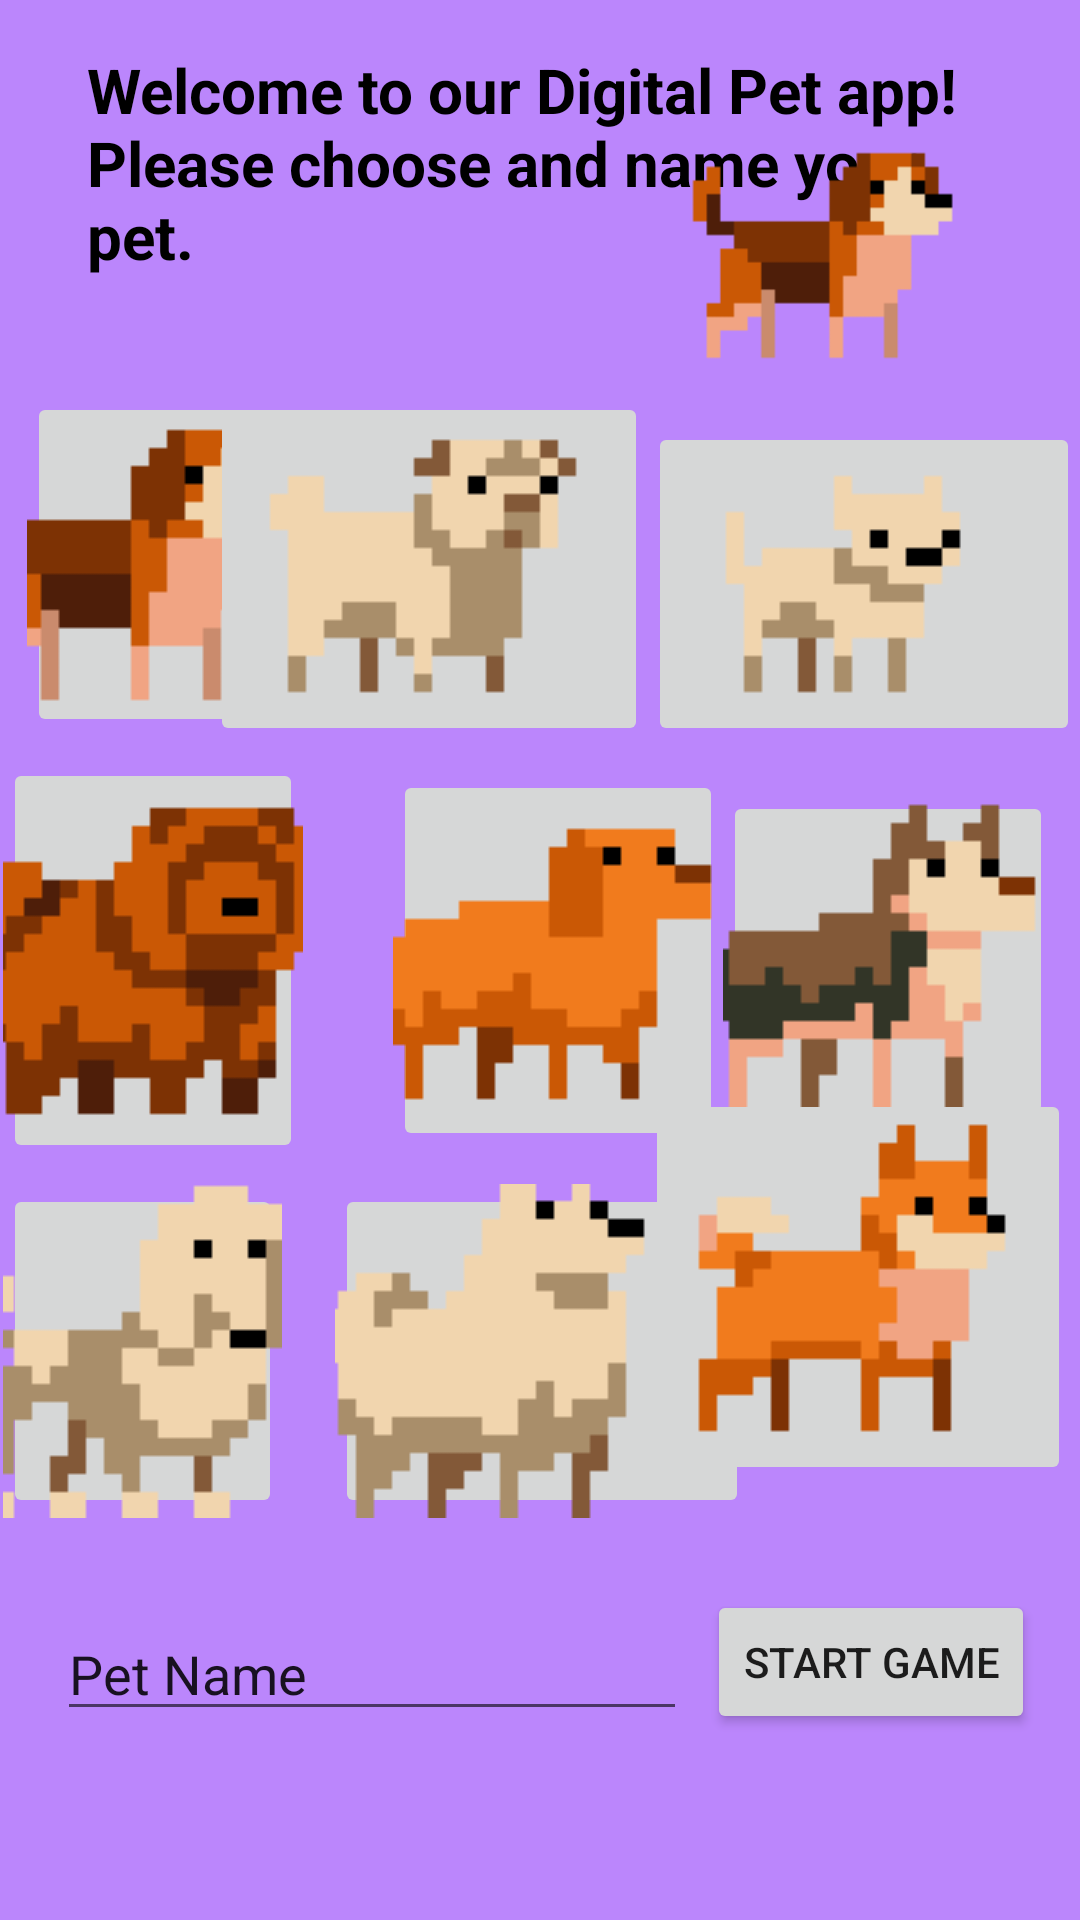

Icon bounding boxes for this 1080*1920 phone screenshot, format rect(x1, y1, x2, y2):
beagle: rect(692, 105, 954, 359), rect(27, 410, 246, 728)
husky: rect(723, 804, 1053, 1130)
poodle: rect(3, 1185, 282, 1518)
